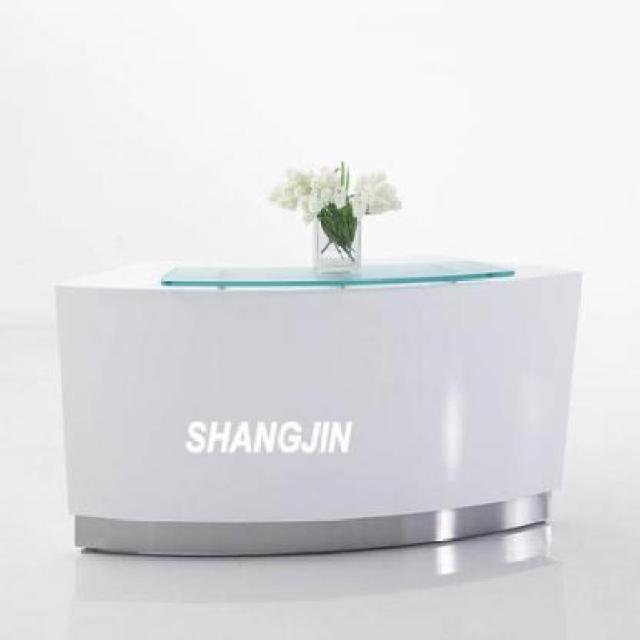frontdesk: (52, 245, 588, 564)
